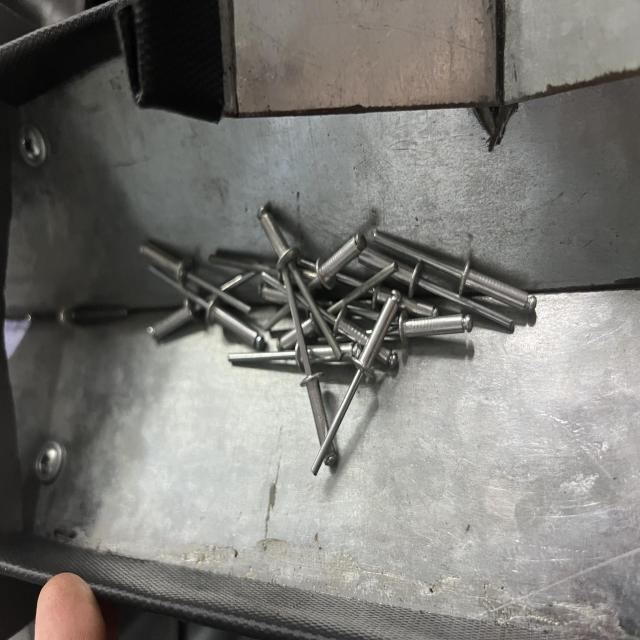rivet: (310, 288, 399, 480)
